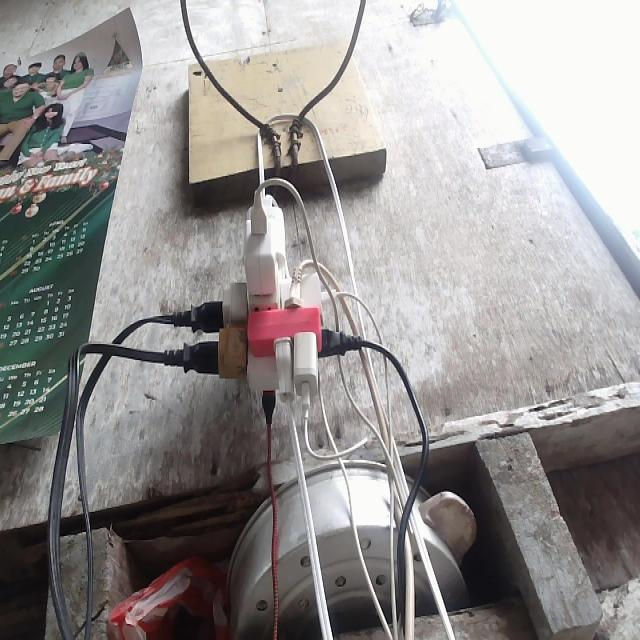-: (156, 176, 372, 425)
